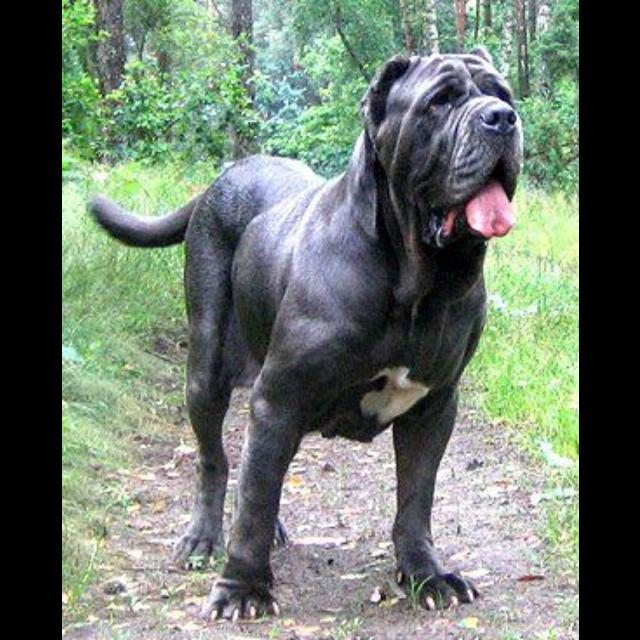mastino_napoletano: (87, 48, 525, 625)
